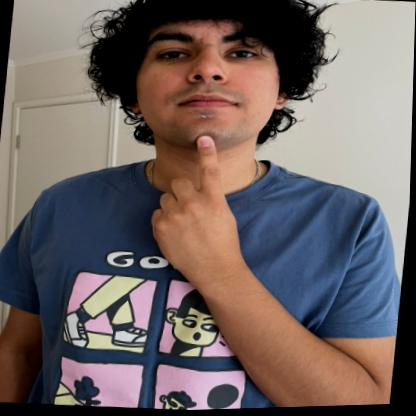T: (142, 127, 248, 274)
